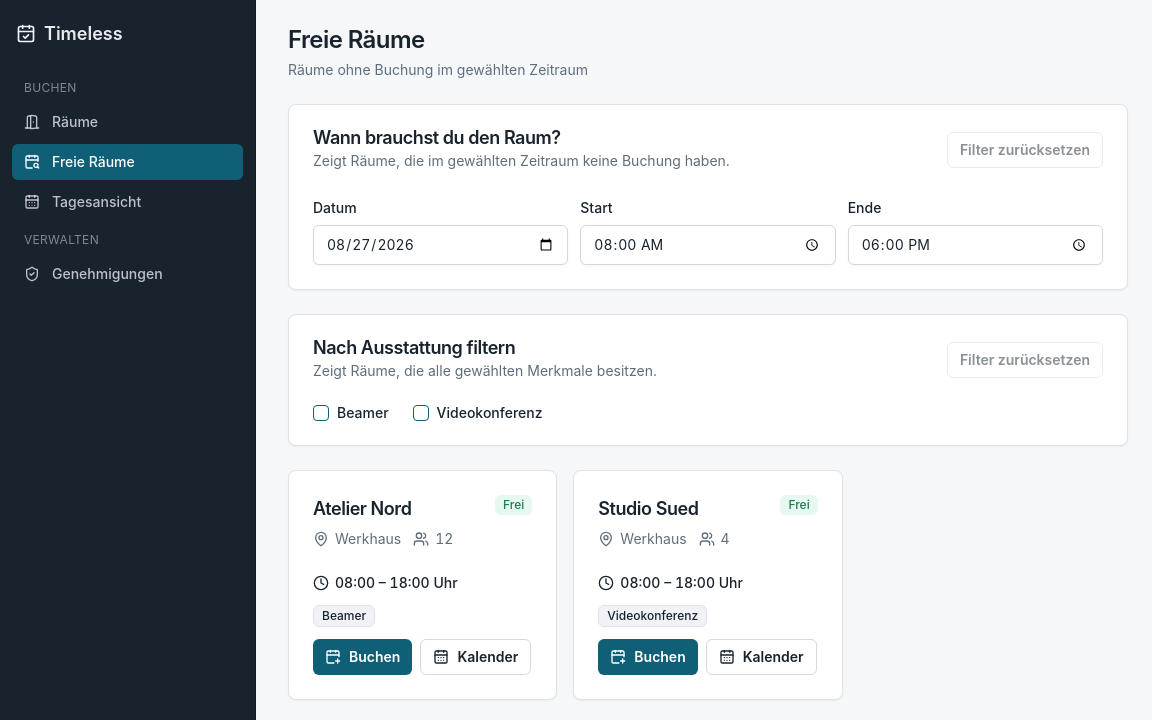
Scenario: Freie-Räume-Suche – Buchungseinstieg aus dem Treffer › bleibt beim Konflikt (409) im offenen Dialog mit verständlicher Meldung stehen und lässt die Trefferliste unangetastet
Expected: the element with test id "search-grid" is shown, [288, 470, 843, 700]
Click the button "Buchen" below "12" at (363, 657), box [313, 639, 412, 675]
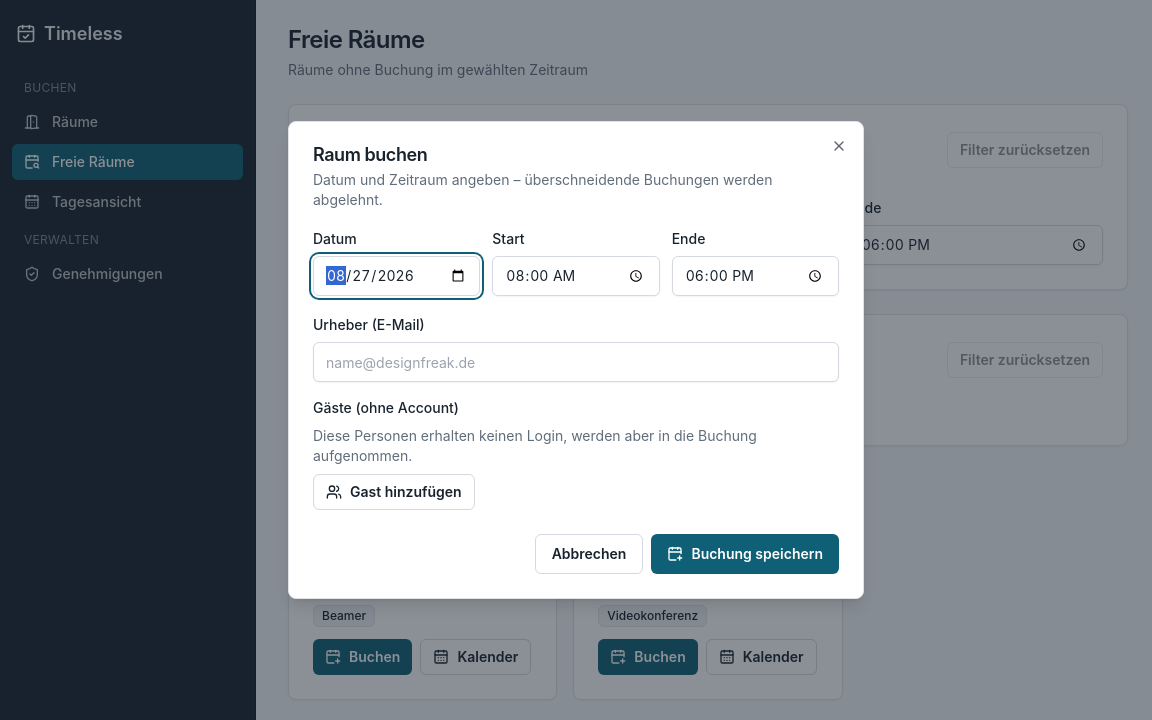
Expected: the dialog with test id "booking-dialog" is shown, [288, 121, 864, 599]
Expected: the form with test id "booking-form" is shown, [313, 226, 839, 574]
Expected: the time field with test id "booking-start" holds "08:00", [492, 256, 660, 296]
Type "mitarbeiter@example.com" into the field with test id "booking-createdby" at (576, 362), box [313, 342, 839, 382]
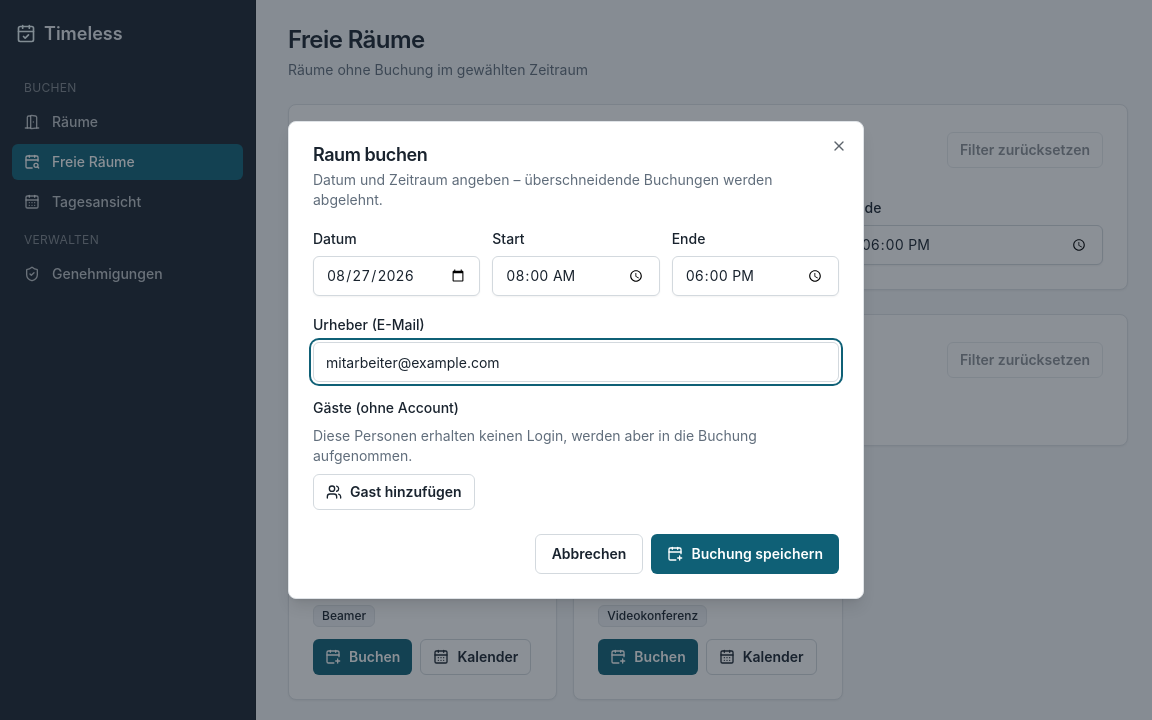
Click the button with test id "booking-submit" at (745, 554), box [651, 534, 839, 574]
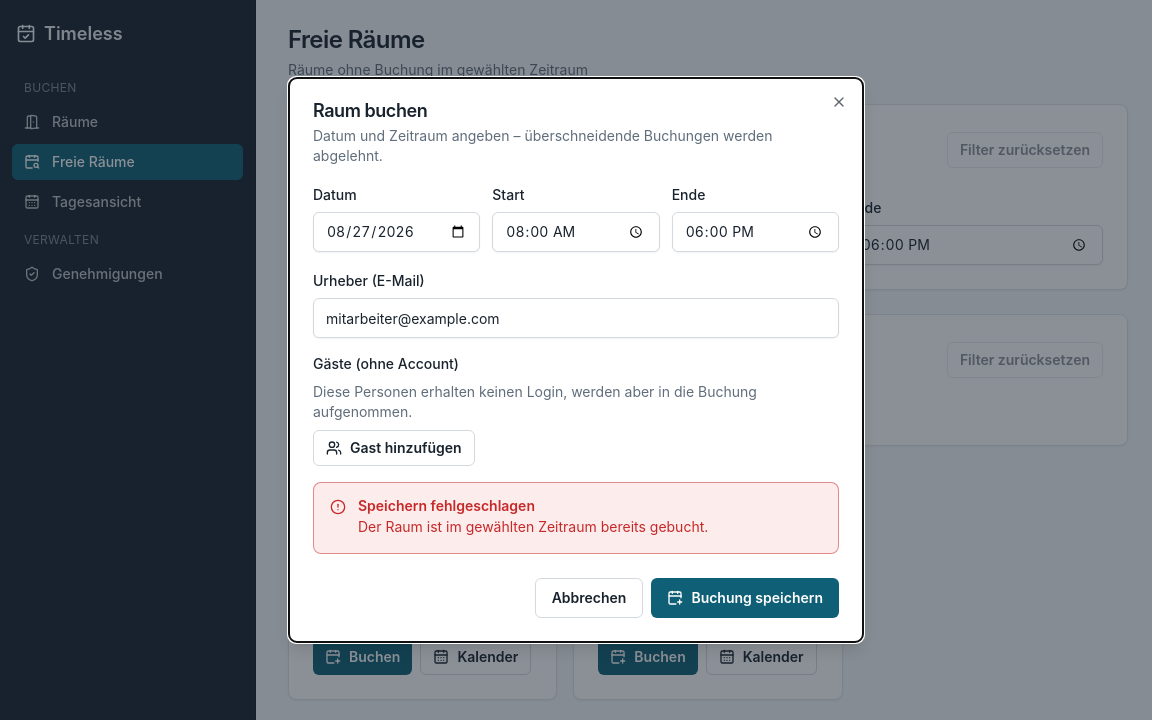
Expected: the number of elements with test id "search-result-card" is 2, [288, 470, 557, 700]; [573, 470, 843, 700]
Expected: the dialog with test id "booking-dialog" is shown, [288, 77, 864, 643]
Expected: the message with test id "booking-save-error" shows "Der Raum ist im gewählten Zeitraum bereits gebucht.", [358, 518, 708, 535]
